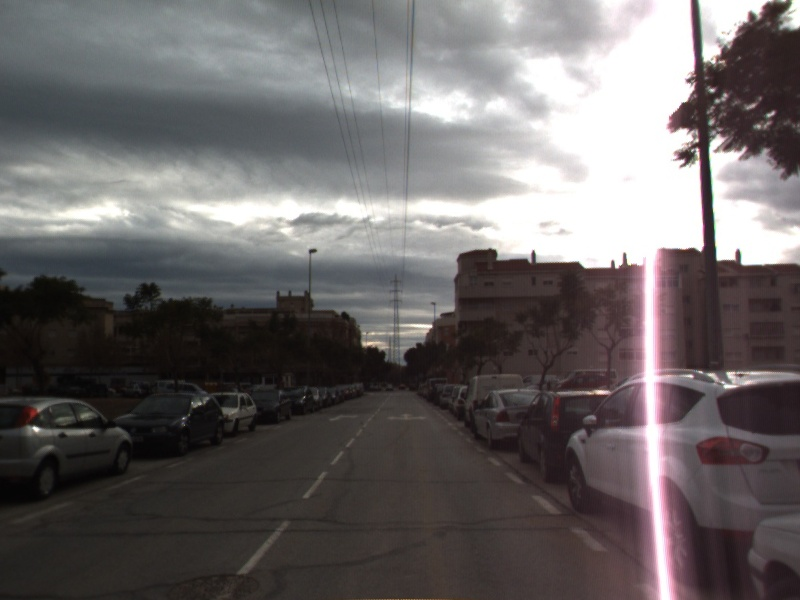STRAIGHT_LEFT_RIGHT: (384, 411, 428, 423)
